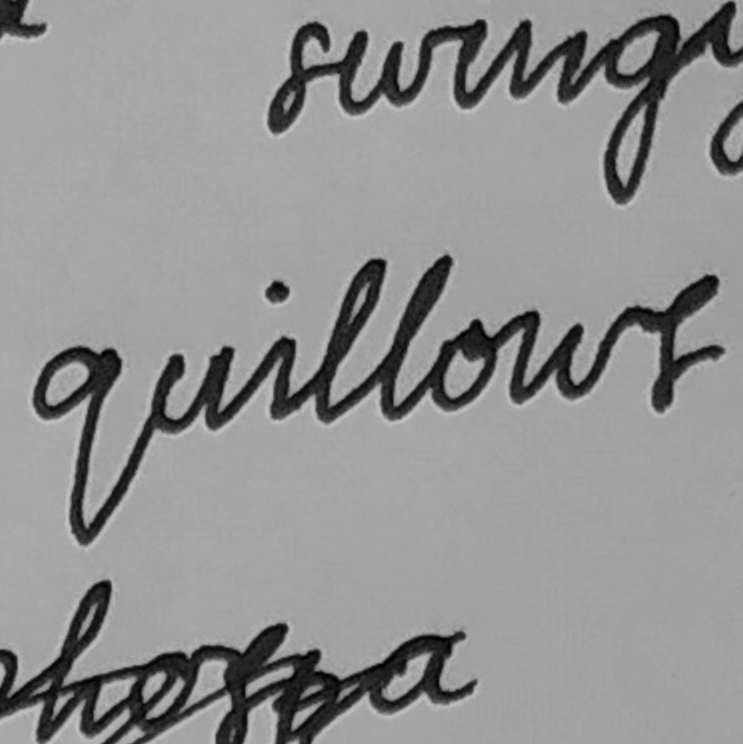i: (247, 275, 305, 427)
l: (374, 249, 457, 427), (309, 254, 389, 426)
o: (422, 312, 504, 419)
q: (27, 341, 127, 556)
s: (640, 268, 728, 418)
u: (143, 338, 240, 444)
w: (505, 297, 637, 410)
